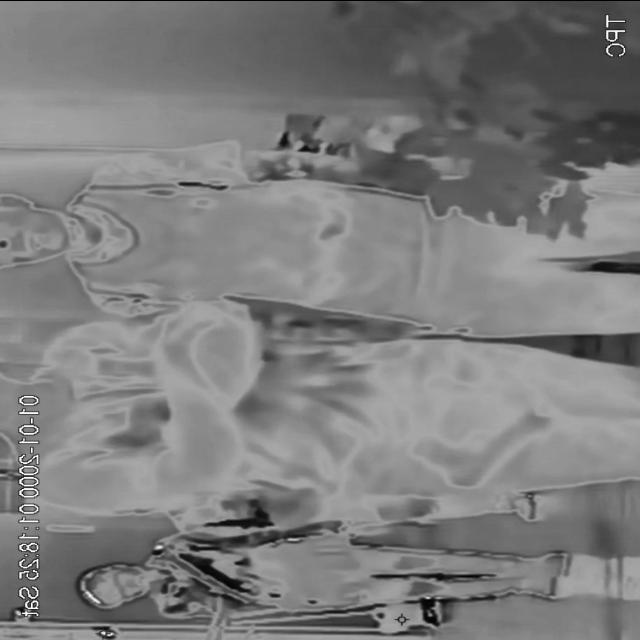Weapon: (413, 403, 553, 489)
